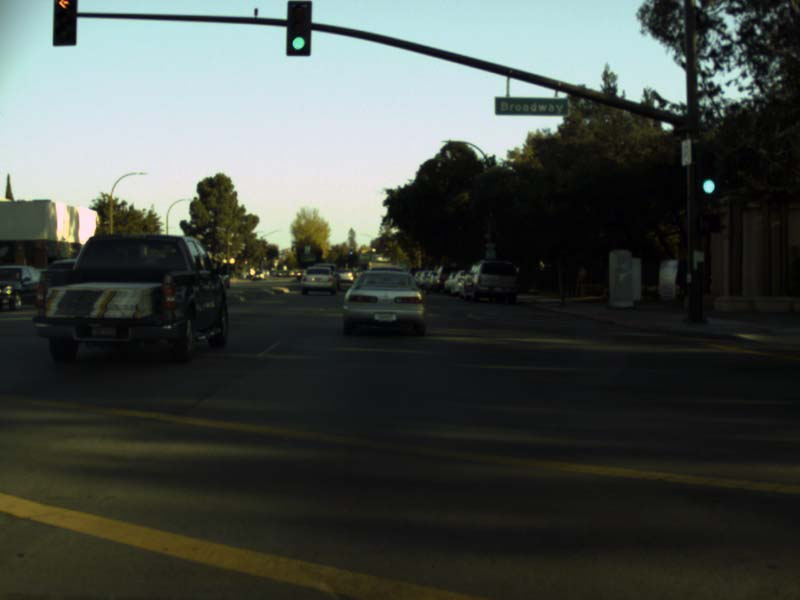Green: (287, 0, 311, 54), (702, 155, 714, 195)
